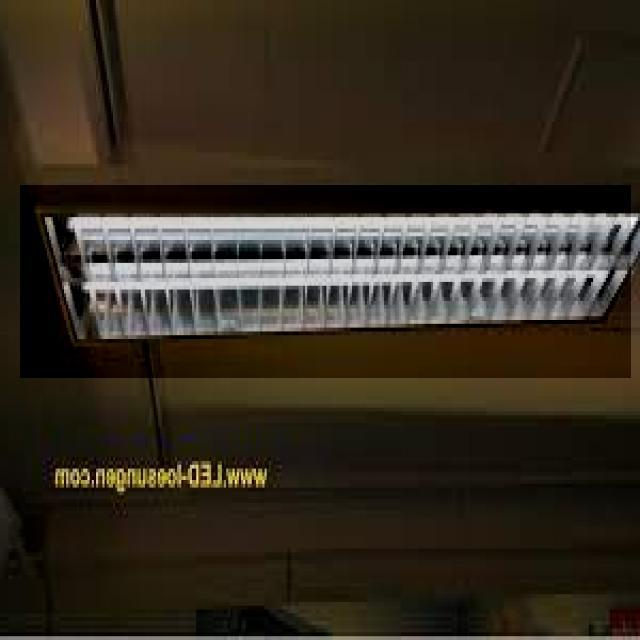Straight-Tube-Fluorescent-Lamp: (62, 205, 632, 249), (77, 260, 631, 288)
